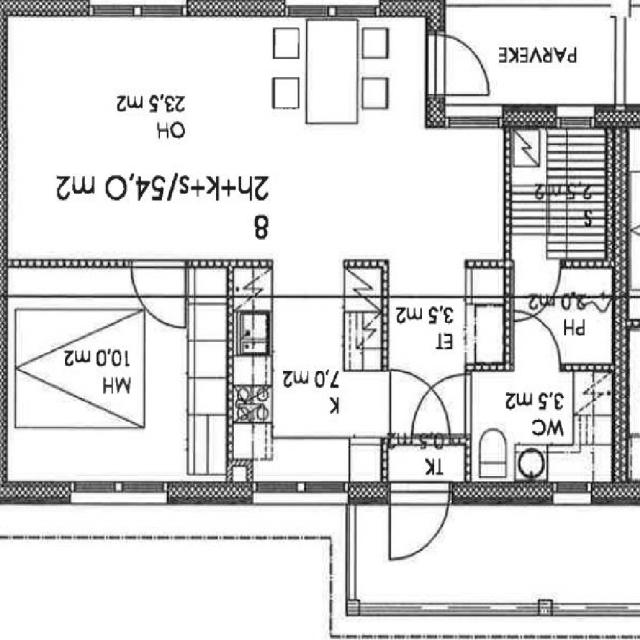door: (390, 481, 450, 573), (390, 367, 451, 444), (425, 35, 497, 94), (130, 260, 186, 330), (412, 374, 472, 434), (513, 309, 561, 372), (513, 260, 560, 322)
